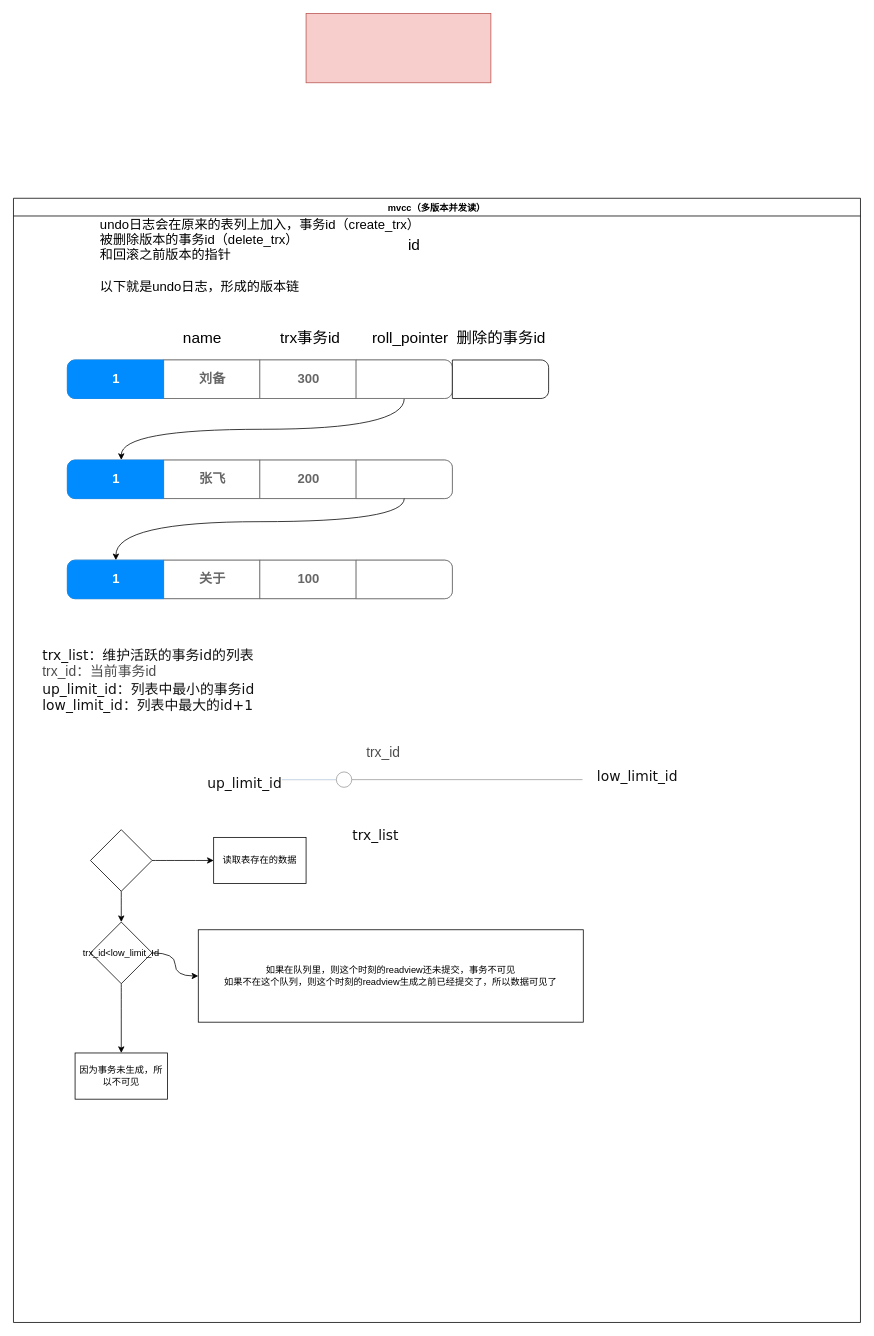
The diagram is 874 pixels wide and 1336 high, and some of its shapes have lost their labels. Here are the shapes that lost their labels. From the top down, the centre of each, then its label:
At (398,48): "mysql解决并发读问题： 读取最新的readview数据就是幻读 mvcc：读已提交和可重复度 加锁：就是串行化".
At (500,378): "删除的版本".
At (121,860): "trx_id>up_limit_Id".
